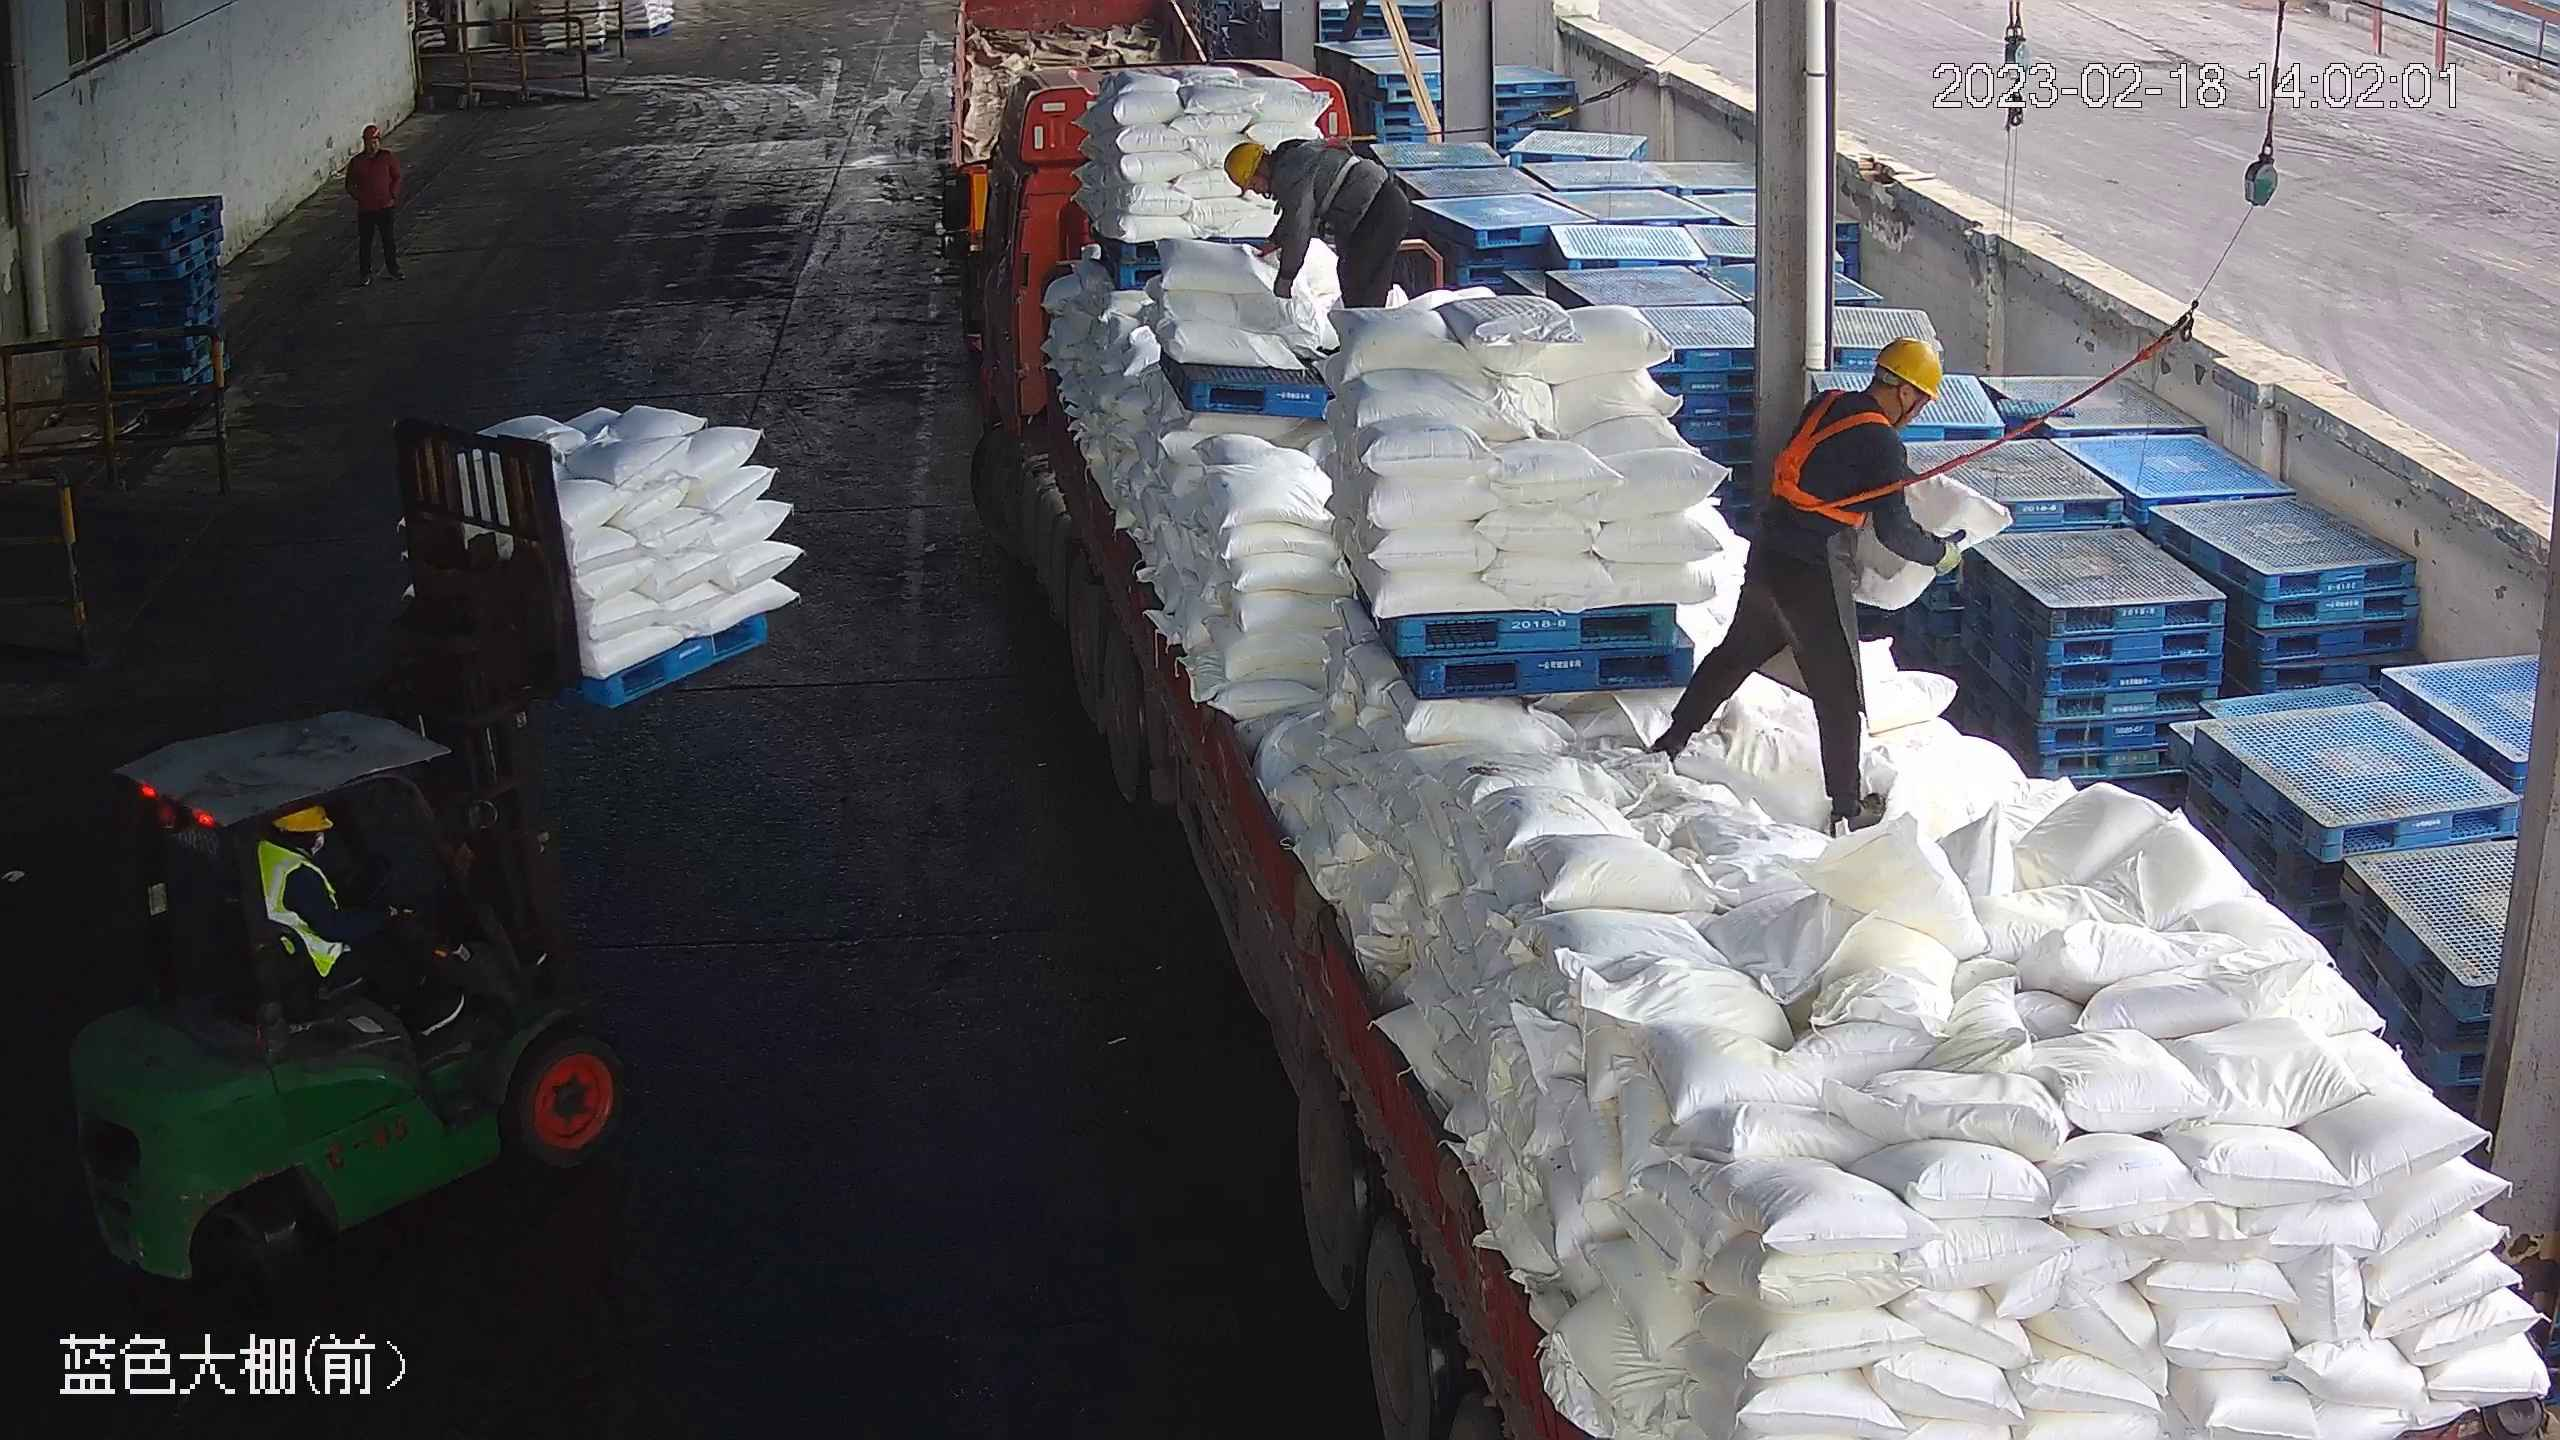belt: (1766, 392, 1889, 531), (1275, 133, 1376, 209)
head: (1790, 332, 1944, 477), (261, 800, 356, 914), (1223, 133, 1330, 214), (348, 119, 400, 173)
helmet: (1870, 333, 1943, 402), (1224, 135, 1264, 196), (361, 120, 386, 142)
people: (1646, 329, 1982, 830), (1221, 130, 1412, 312), (258, 797, 402, 1021), (338, 120, 408, 287)
truck: (933, 55, 2556, 1440)
